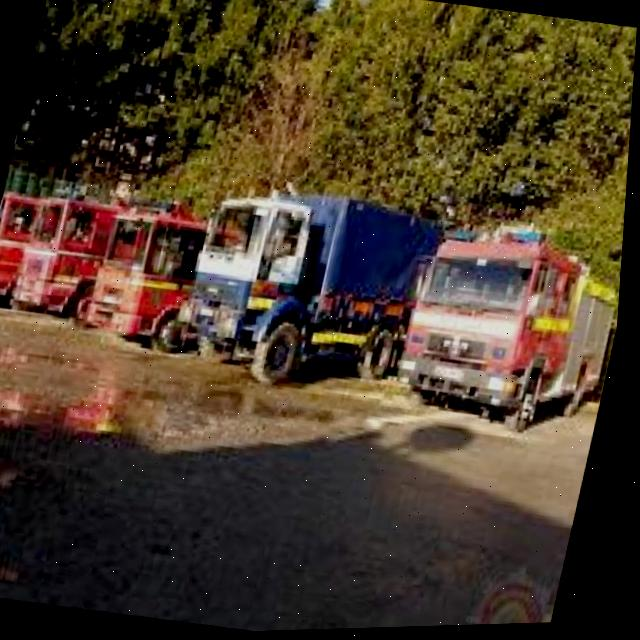emergency: (392, 215, 628, 451)
